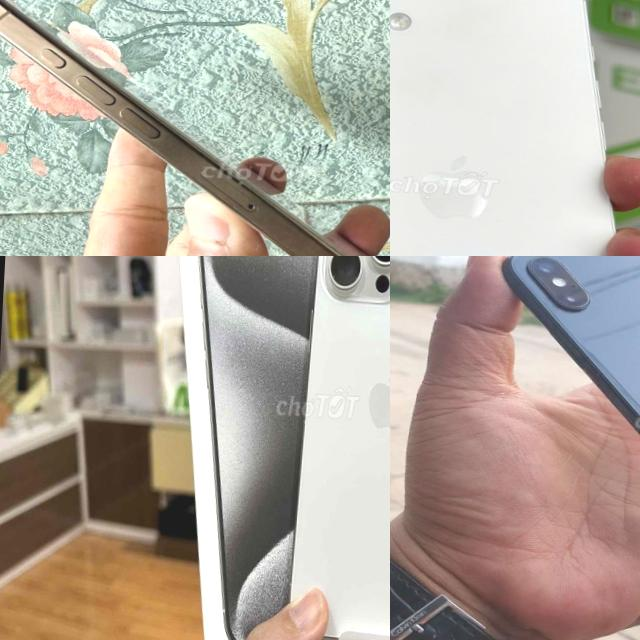gen_12_13: (284, 256, 390, 640)
gen_16: (0, 0, 390, 256), (390, 0, 617, 256)
gen_x_xs: (504, 256, 640, 436)
